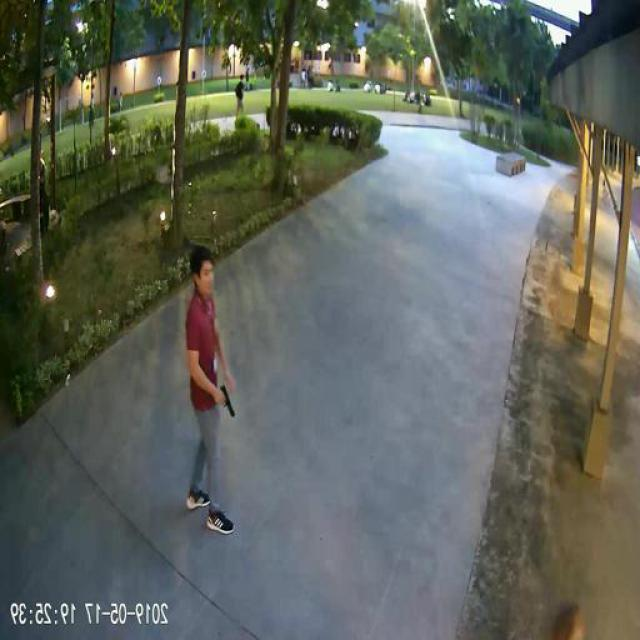Gun: (220, 384, 236, 416)
